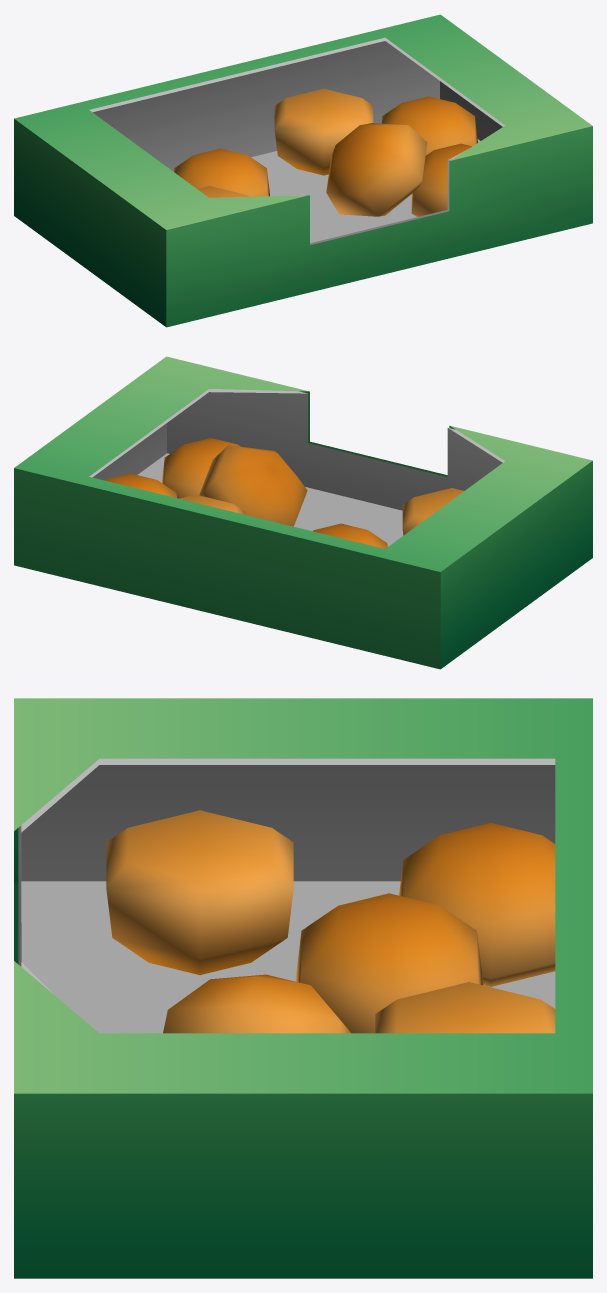
Rendered from CR_Chip_02.FBX.
3 views of the same model, one above another, from view 1: azimuth 30°, elevation 25°; view 2: azimuth 150°, elevation 25°; view 3: azimuth 270°, elevation 25° (orthographic). The views are drawn at different scales.
Visible parts, largest first — view 1: CR_Chip_02; view 2: CR_Chip_02; view 3: CR_Chip_02.
Part boxes in pixels (x1,y1,x2,y2): CR_Chip_02: (14,14,592,327); CR_Chip_02: (14,356,592,669); CR_Chip_02: (14,698,592,1278).
Bounding box in the file's own units: 12.97 × 2.83 × 8.03.
